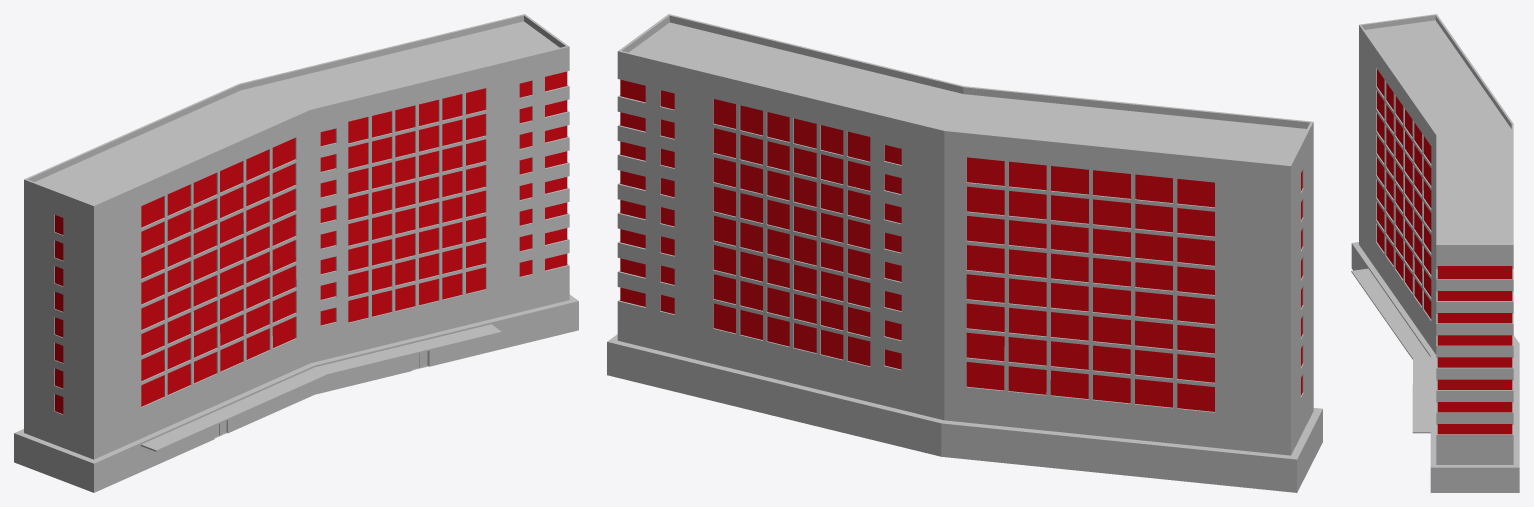
The model's file is SM_infrastructure_buildings_06.gltf.
The picture shows the model from 3 angles, left to right: view 1: azimuth 30°, elevation 25°; view 2: azimuth 150°, elevation 25°; view 3: azimuth 270°, elevation 25°; orthographic projection. The views are drawn at different scales.
Parts seen in each view (by area): view 1: infrastructure_buildings_06; view 2: infrastructure_buildings_06; view 3: infrastructure_buildings_06.
Part boxes in pixels (left/top/right/bottom): infrastructure_buildings_06: left=14, top=14, right=578, bottom=492; infrastructure_buildings_06: left=607, top=14, right=1322, bottom=492; infrastructure_buildings_06: left=1351, top=14, right=1519, bottom=492.
Bounding box in the file's own units: 60 × 29 × 18.
